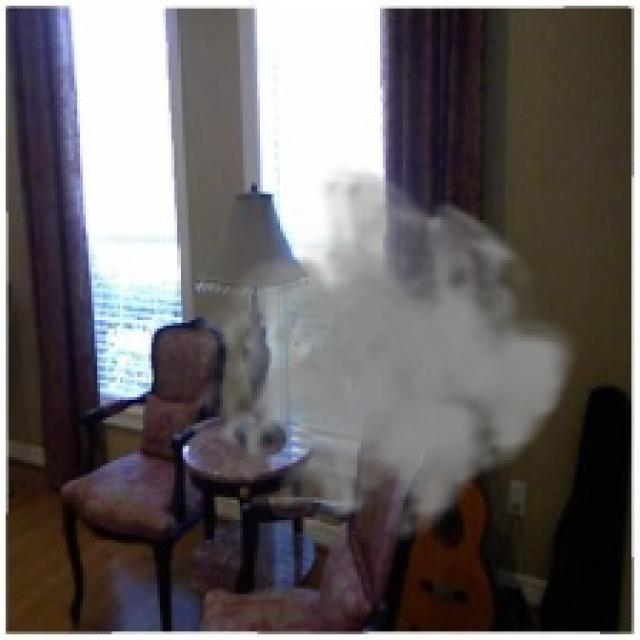smoke: (194, 163, 580, 557)
